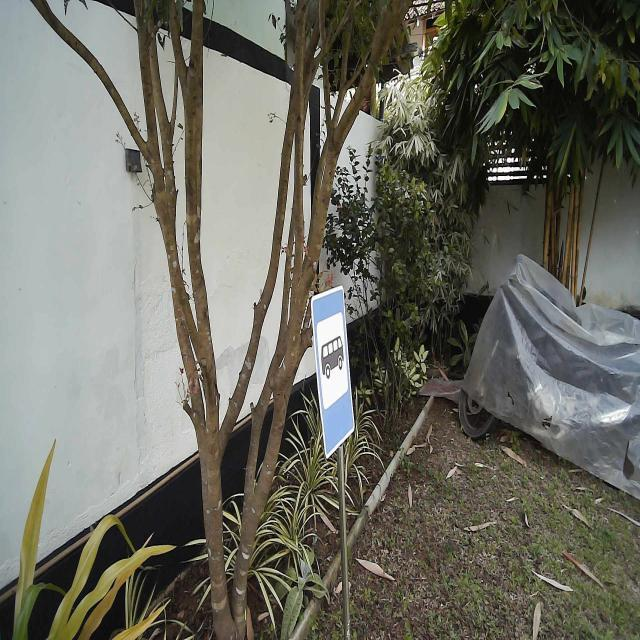bus_stop: (309, 284, 356, 460)
